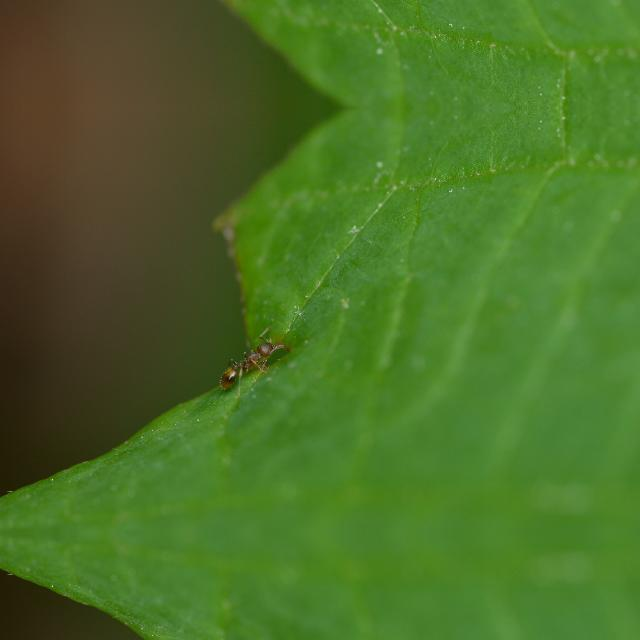Temnothorax: (208, 326, 296, 390)
